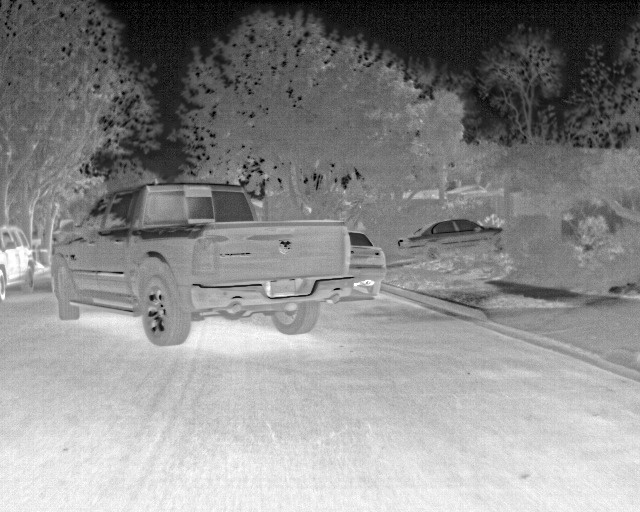vehicle: (49, 181, 354, 347), (395, 216, 509, 259), (340, 227, 389, 303), (1, 224, 41, 300)
